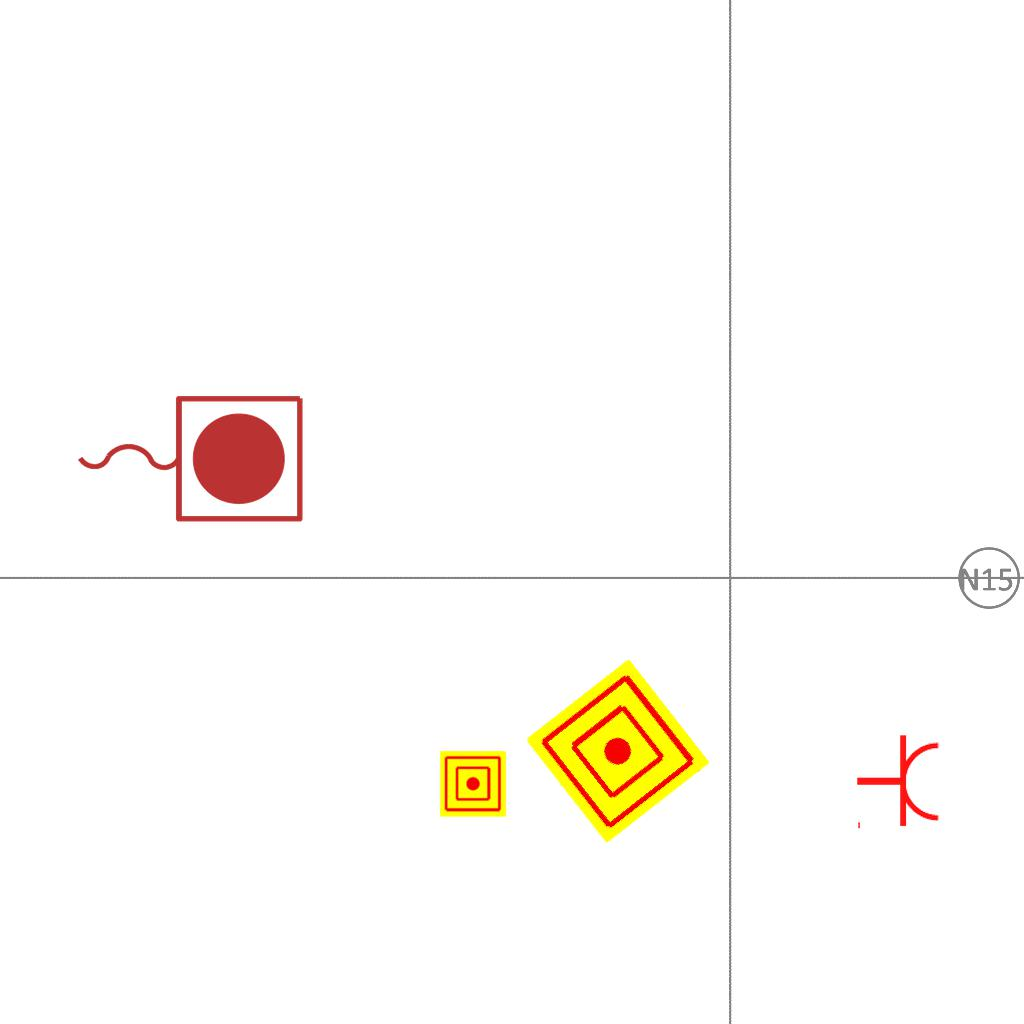NAM-Nichtautomatischer_Melder: (525, 658, 711, 844), (440, 751, 506, 817)
Schukosteckdose_einfach: (855, 733, 942, 833)
Zugtaster: (67, 385, 311, 529)
